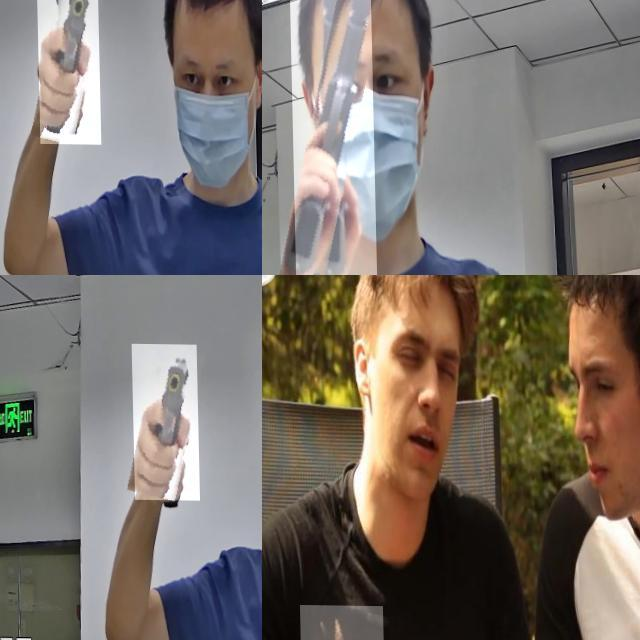-: (298, 604, 383, 640)
gun-knife-thesis - v11 Yolov5 augmented: (288, 0, 375, 275), (130, 343, 198, 500), (34, 0, 99, 143)
